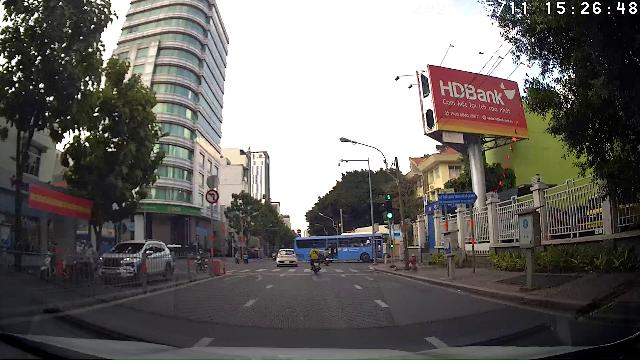123a-cam-re-trai: (205, 189, 220, 204)
